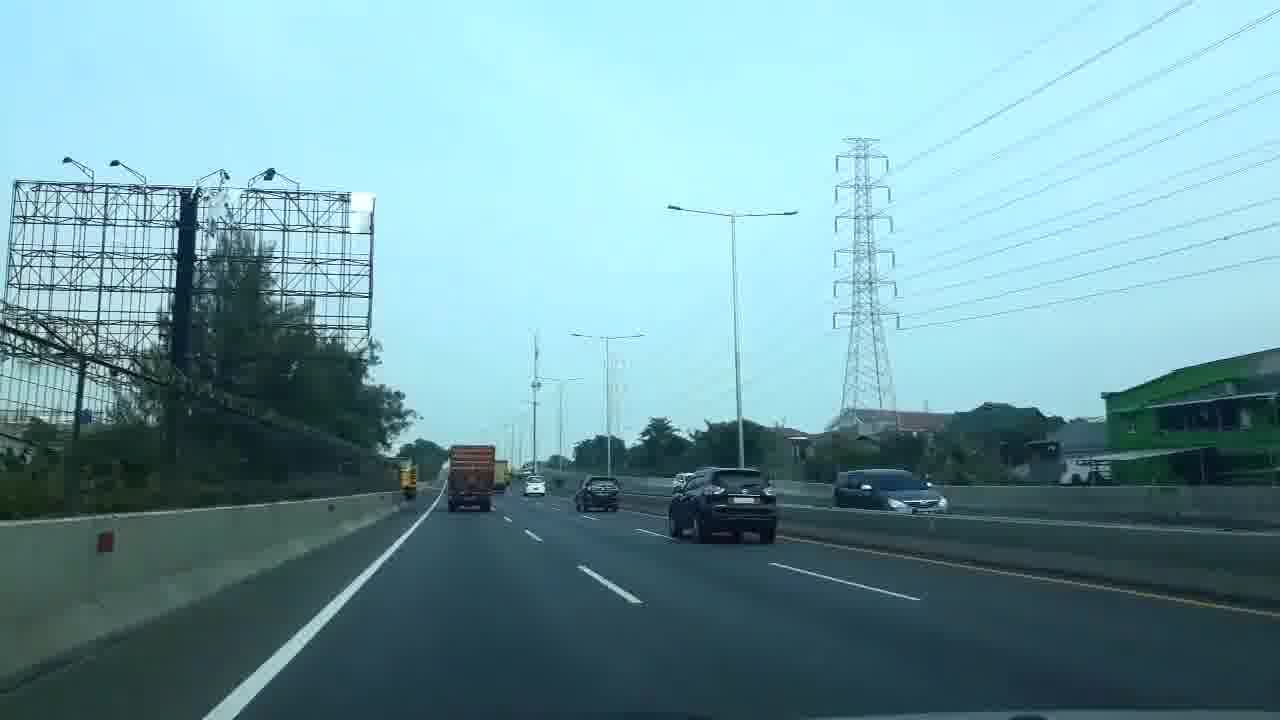plate_positive: (733, 496, 755, 504)
